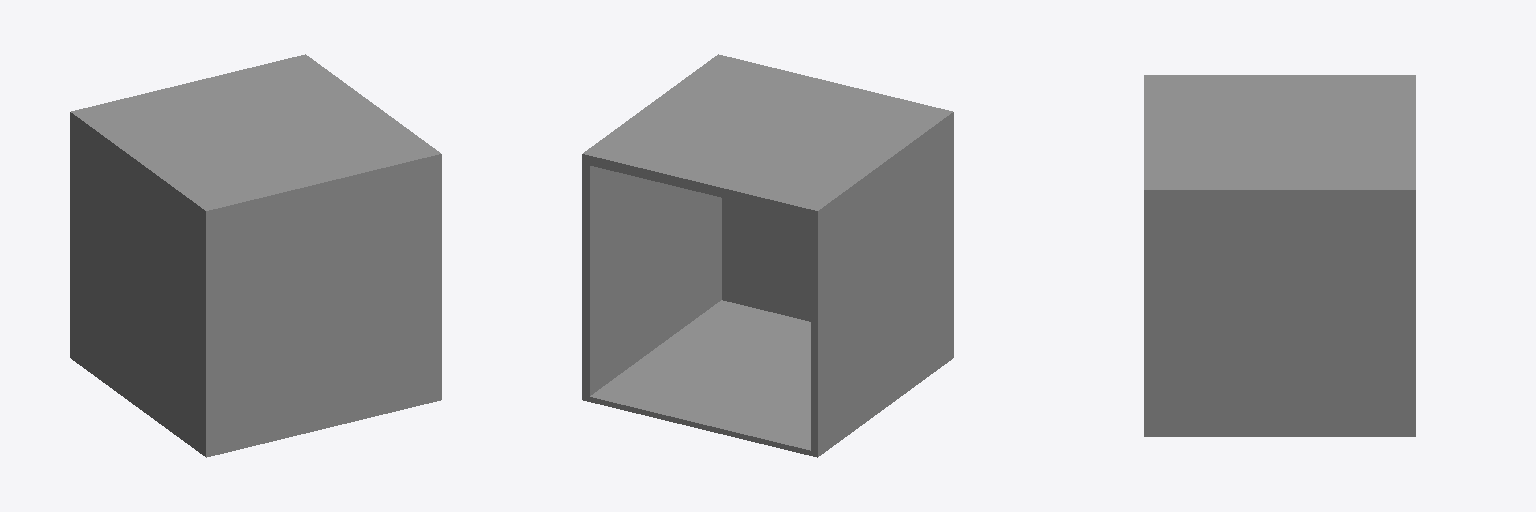
Rendered from caixa.obj.
The picture shows the model from 3 angles: view 1: azimuth 30°, elevation 25°; view 2: azimuth 150°, elevation 25°; view 3: azimuth 270°, elevation 25°; orthographic projection.
Visible parts, largest first — view 1: Cube; view 2: Cube; view 3: Cube.
Boxes of the visible parts, <box> form: Cube: <box>70,54,441,457</box>; Cube: <box>582,54,953,457</box>; Cube: <box>1144,75,1415,436</box>.
Size of the model in its own units: 2 by 2 by 2.